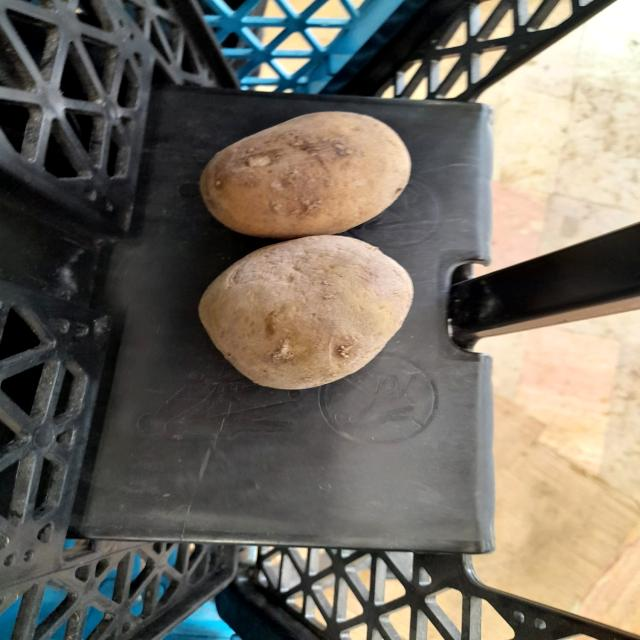potato: (195, 224, 444, 396), (192, 95, 428, 241)
